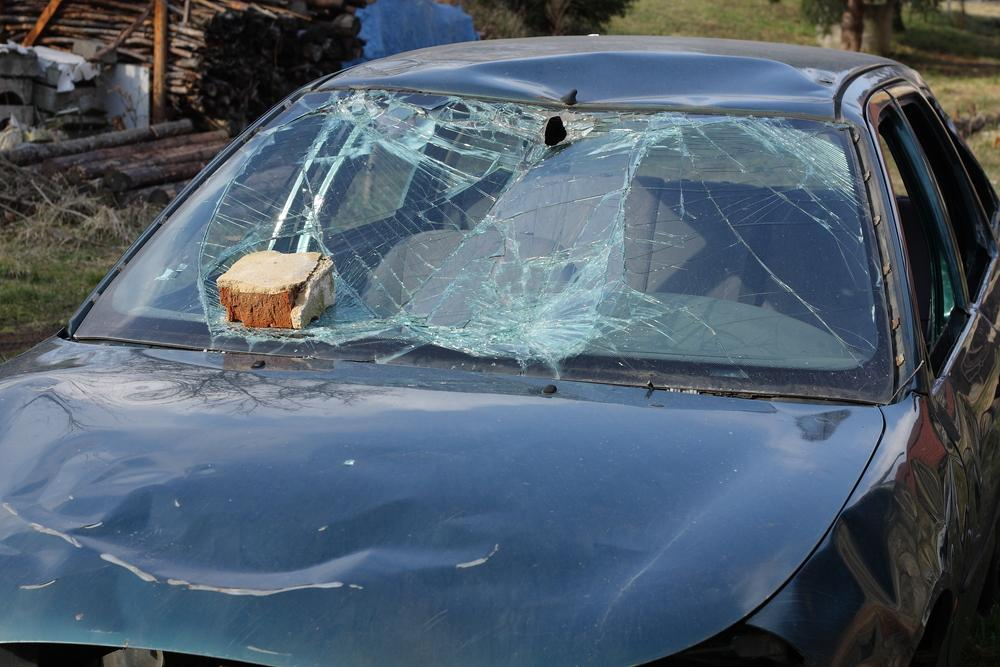dent: (3, 429, 503, 629), (455, 51, 832, 106)
glass shatter: (71, 88, 893, 403)
